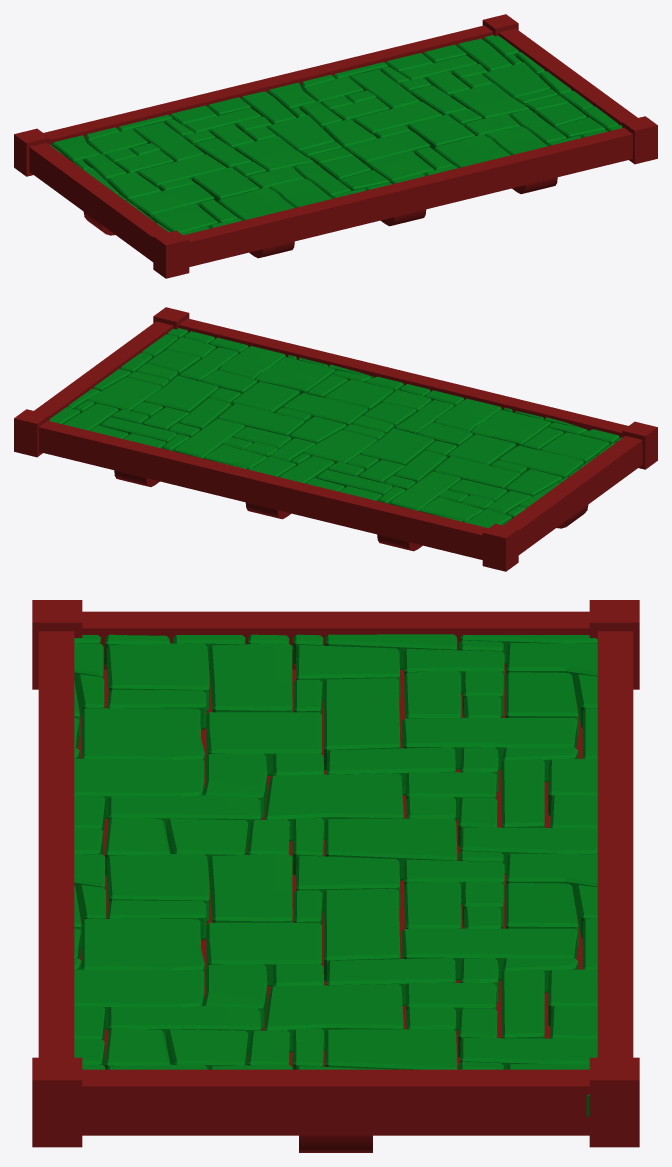
File: Plataforma.fbx
3 views of the same model, one above another, from view 1: azimuth 30°, elevation 25°; view 2: azimuth 150°, elevation 25°; view 3: azimuth 270°, elevation 25° (orthographic). The views are drawn at different scales.
Visible parts, largest first — view 1: sm_Platform; view 2: sm_Platform; view 3: sm_Platform.
Boxes of the visible parts, bbox=[...] form: sm_Platform: bbox=[14, 14, 657, 278]; sm_Platform: bbox=[14, 307, 657, 571]; sm_Platform: bbox=[32, 600, 639, 1152].
Bounding box in the file's own units: 1556 × 129 × 832.
